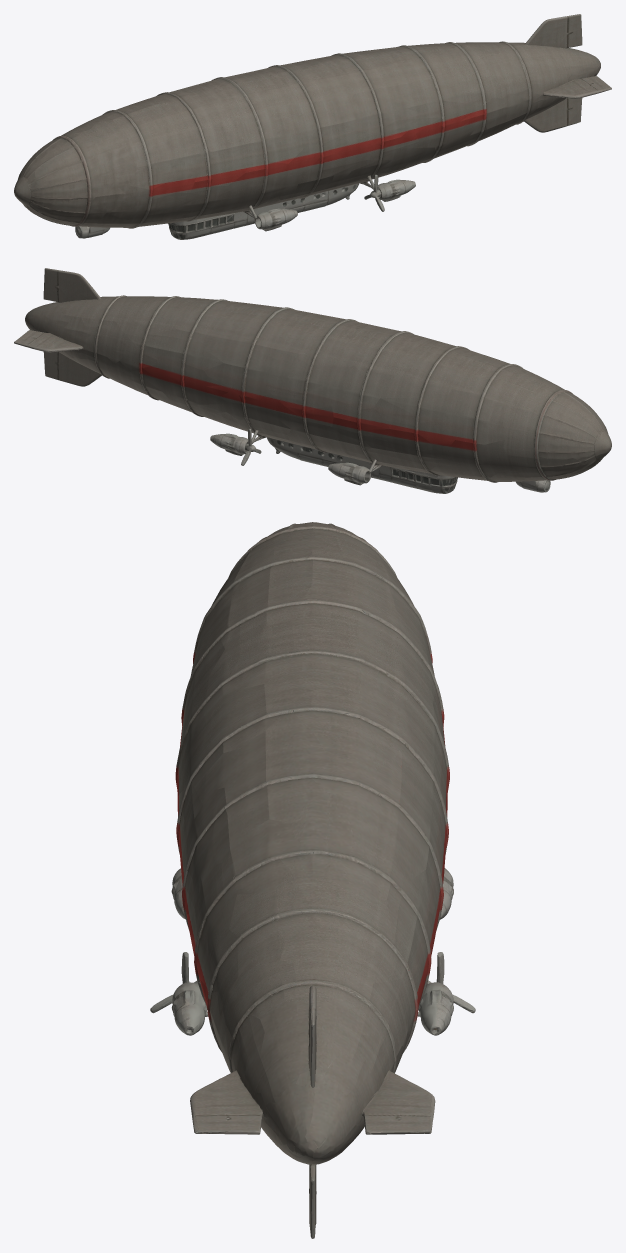
Rendered from patrol_airship.glb.
3 views of the same model, one above another, from view 1: azimuth 30°, elevation 25°; view 2: azimuth 150°, elevation 25°; view 3: azimuth 270°, elevation 25° (orthographic). The views are drawn at different scales.
Size of the model in its own units: 1.9 by 0.4515 by 0.4581.
1 material, 1 textured.
